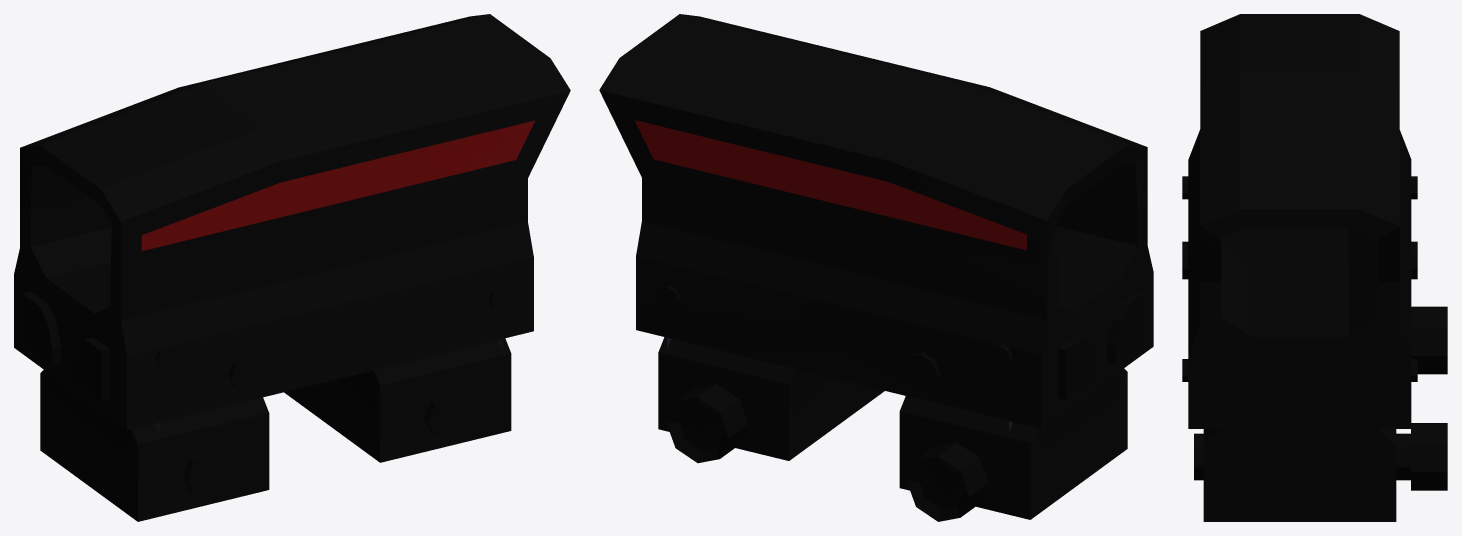
The model's file is k-att-holographic-east.glb.
The picture shows the model from 3 angles, left to right: view 1: azimuth 30°, elevation 25°; view 2: azimuth 150°, elevation 25°; view 3: azimuth 270°, elevation 25°; orthographic projection.
Parts seen in each view (by area): view 1: kit (×3); view 2: kit (×3); view 3: kit (×2).
Boxes of the visible parts, x1,y1,x2,y2 form: kit (×3): (14,14,570,521); kit (×3): (599,14,1153,521); kit (×2): (1182,14,1447,521).
Bounding box in the file's own units: 0.0759 × 0.0546 × 0.0386.
